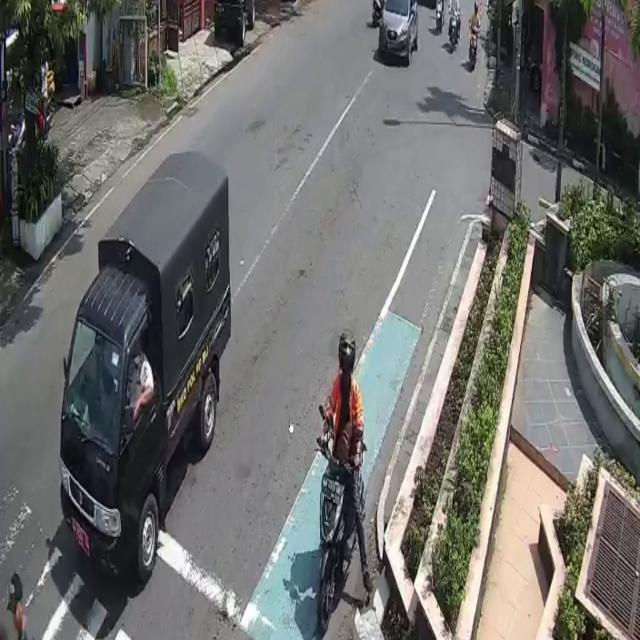car: (58, 148, 232, 597), (377, 2, 419, 64)
motorbike: (317, 431, 366, 634)
